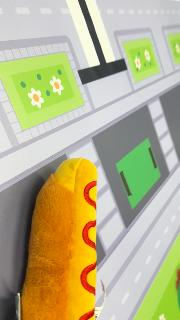hotdog: (21, 157, 98, 319)
